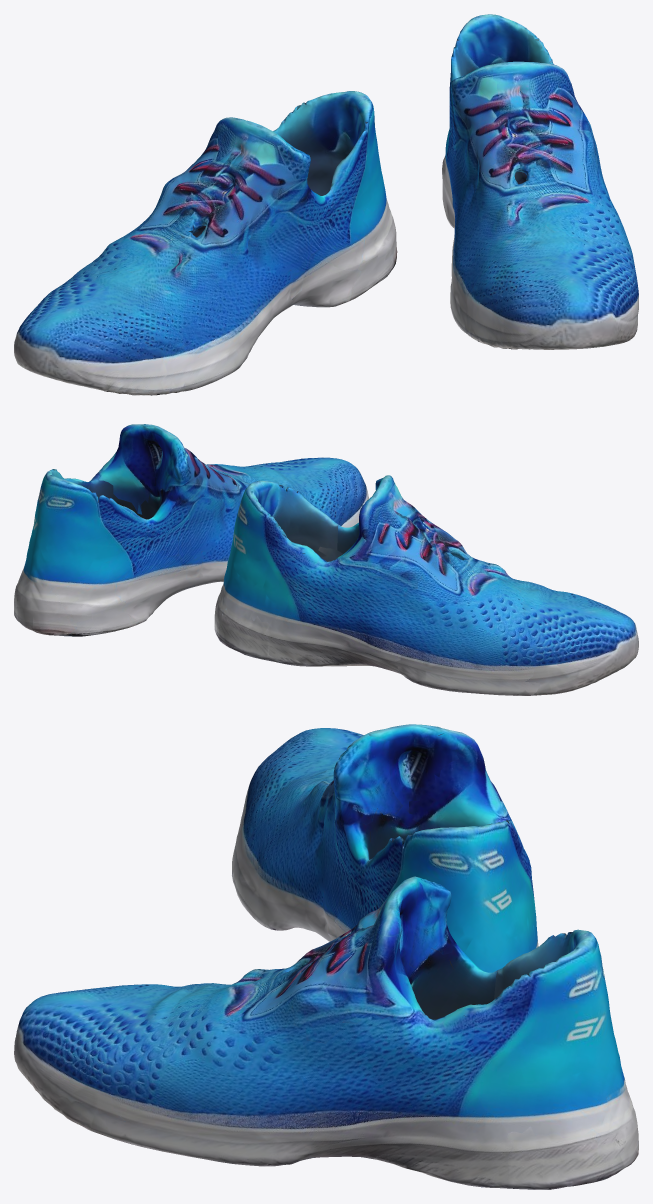
File: shoes.glb
3 renders of one model, top to bottom at view 1: azimuth 30°, elevation 25°; view 2: azimuth 150°, elevation 25°; view 3: azimuth 270°, elevation 25°, orthographic. The views are drawn at different scales.
Parts seen in each view (by area): view 1: Mesh_0; view 2: Mesh_0; view 3: Mesh_0.
Part boxes in pixels (x1,y1,x2,y2): Mesh_0: (14,14,638,395); Mesh_0: (14,424,638,695); Mesh_0: (14,724,638,1189).
Bounding box in the file's own units: 0.4324 × 0.1279 × 0.2922.
1 material, 1 textured.
